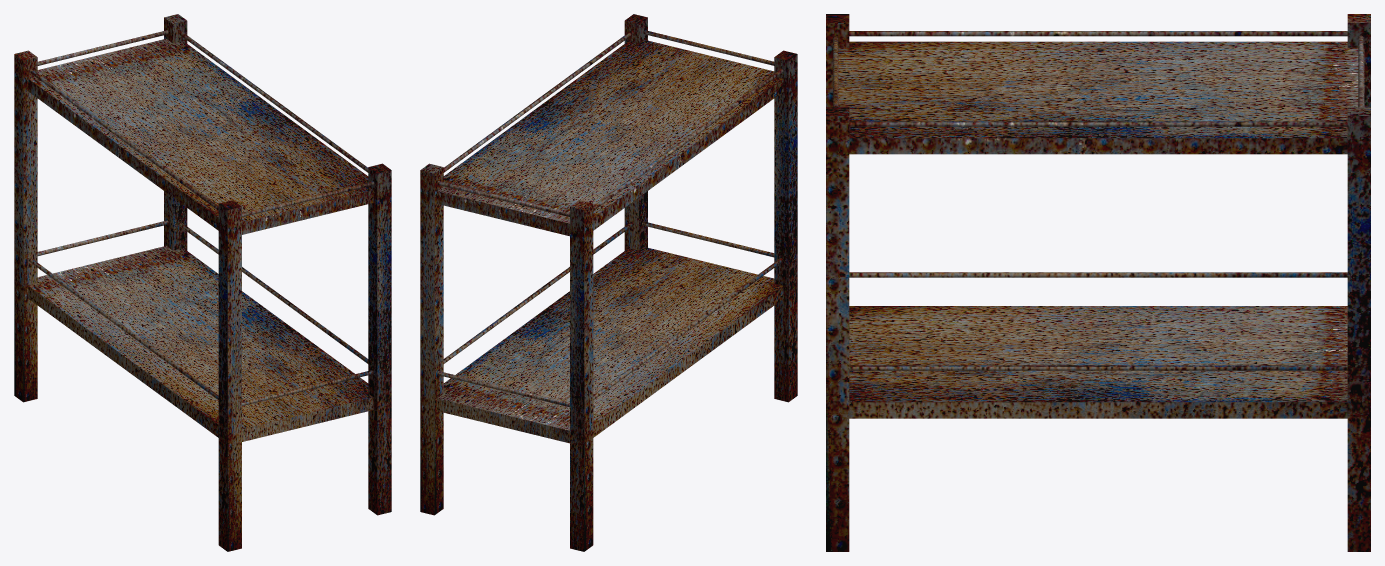
3 views of the same model, side by side, from view 1: azimuth 30°, elevation 25°; view 2: azimuth 150°, elevation 25°; view 3: azimuth 270°, elevation 25° (orthographic). The views are drawn at different scales.
Visible parts, largest first — view 1: trolley; view 2: trolley; view 3: trolley.
Part boxes in pixels (<box>): trolley: <box>14,14,391,551</box>; trolley: <box>420,14,797,551</box>; trolley: <box>826,14,1370,551</box>.
Size of the model in its own units: 457 by 910 by 1031.
1 material, 1 textured.
